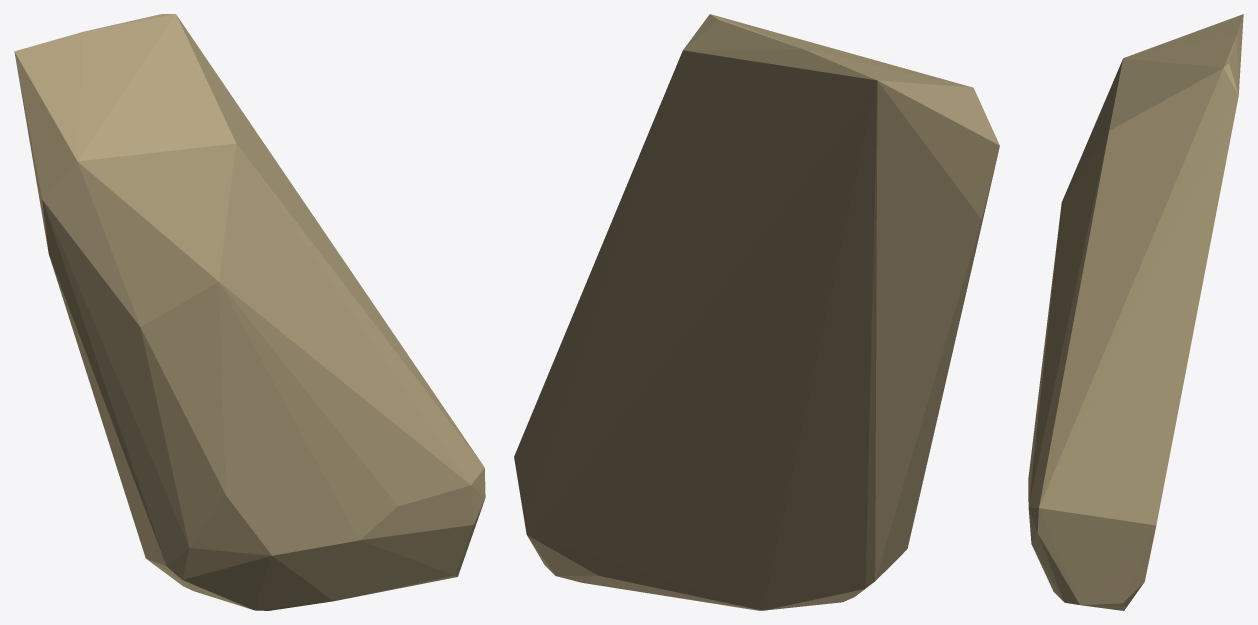
File: bodyPart_car_side_mirror_c01.glb
The picture shows the model from 3 angles, left to right: view 1: azimuth 30°, elevation 25°; view 2: azimuth 150°, elevation 25°; view 3: azimuth 270°, elevation 25°; orthographic projection. The views are drawn at different scales.
Visible parts, largest first — view 1: geometry_0; view 2: geometry_0; view 3: geometry_0.
Boxes of the visible parts, x1,y1,x2,y2 form: geometry_0: [14, 14, 485, 610]; geometry_0: [514, 14, 999, 610]; geometry_0: [1028, 14, 1243, 610].
Size of the model in its own units: 0.3501 by 0.4762 by 0.1992.
